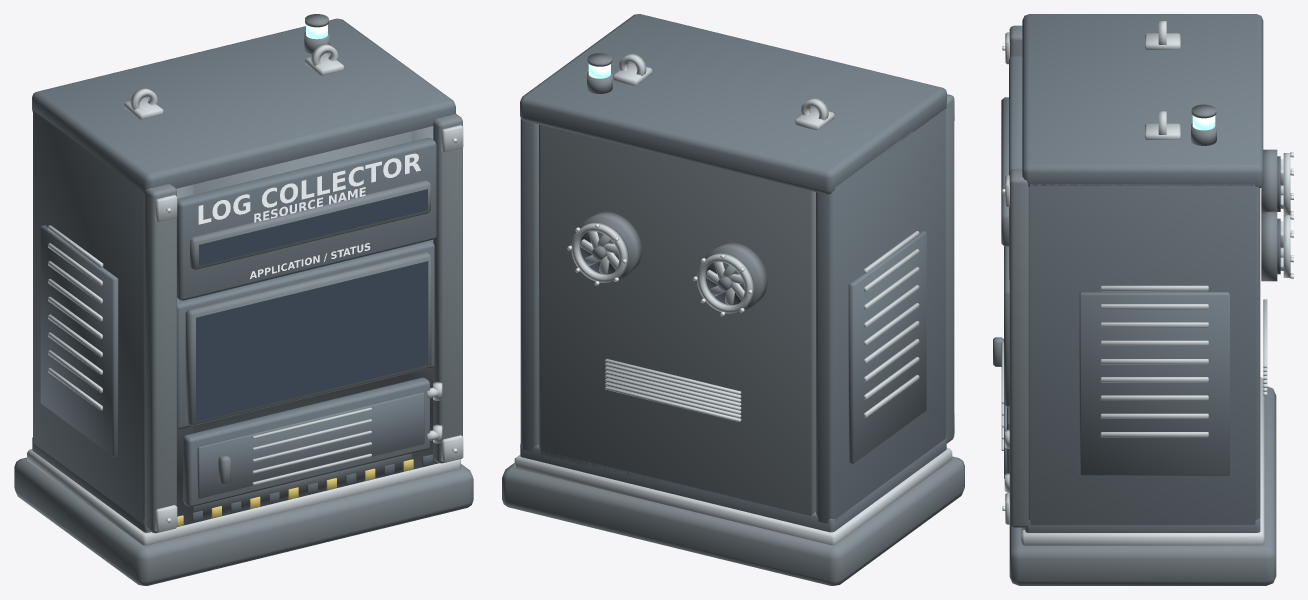
Rendered from log_collector_ultra.glb.
The picture shows the model from 3 angles, left to right: view 1: azimuth 30°, elevation 25°; view 2: azimuth 150°, elevation 25°; view 3: azimuth 270°, elevation 25°; orthographic projection. The views are drawn at different scales.
Visible parts, largest first — view 1: Roof_graphite, LiveViewSurface_glass, SideWall_graphite, Skid_frame, CornerPost_frame, FrontHeader_graphite, SideServicePanel_graphite, DoorMoving_Inset_graphite, DoorMoving_Panel_graphite, SkidDeck_steel, LiveViewSurfaceFrame_frame, ResourceNameSurface_glass (+15 smaller); view 2: BackWall_frame, Roof_graphite, SideWall_graphite, Skid_frame, SideServicePanel_graphite, SkidDeck_steel, KickPlate_graphite, RearFan_steel, RearVent_steel, SideLouver_steel, CornerPost_frame, RearFan_frame (+3 smaller); view 3: SideWall_graphite, Roof_graphite, SideServicePanel_graphite, Skid_frame, CornerPost_frame, SideLouver_steel, SkidDeck_steel, RearFan_frame, KickPlate_graphite, FrontHeader_graphite, RearFan_steel, ResourceNameSurfaceFrame_frame (+7 smaller).
Part boxes in pixels (x1,y1,x2,y2): Roof_graphite: (32, 18, 455, 194); LiveViewSurface_glass: (196, 261, 428, 421); SideWall_graphite: (33, 110, 144, 523); Skid_frame: (14, 457, 473, 585); CornerPost_frame: (144, 114, 462, 533); FrontHeader_graphite: (177, 137, 436, 300); SideServicePanel_graphite: (40, 225, 118, 456); DoorMoving_Inset_graphite: (197, 392, 424, 498); DoorMoving_Panel_graphite: (183, 377, 429, 506); SkidDeck_steel: (27, 449, 460, 545); LiveViewSurfaceFrame_frame: (185, 251, 431, 425); ResourceNameSurface_glass: (199, 189, 427, 265); BackWall_frame: (539, 124, 815, 518); Roof_graphite: (520, 14, 946, 194); SideWall_graphite: (520, 109, 945, 523); Skid_frame: (502, 456, 964, 585); SideServicePanel_graphite: (848, 230, 926, 463); SkidDeck_steel: (514, 447, 952, 545); KickPlate_graphite: (520, 437, 946, 532); RearFan_steel: (571, 222, 753, 313); RearVent_steel: (605, 359, 741, 422); SideLouver_steel: (863, 231, 919, 417); CornerPost_frame: (946, 94, 954, 443); RearFan_frame: (579, 211, 767, 311); SideWall_graphite: (1028, 184, 1260, 524); Roof_graphite: (1022, 14, 1263, 188); SideServicePanel_graphite: (1079, 292, 1229, 475); Skid_frame: (1009, 386, 1276, 585); CornerPost_frame: (1009, 25, 1028, 527); SideLouver_steel: (1100, 285, 1208, 437); SkidDeck_steel: (1021, 377, 1264, 545); RearFan_frame: (1261, 149, 1277, 281); KickPlate_graphite: (1025, 518, 1260, 532); FrontHeader_graphite: (1009, 56, 1022, 279); RearFan_steel: (1280, 153, 1290, 277); ResourceNameSurfaceFrame_frame: (1001, 97, 1008, 246).
Bounding box in the file's own units: 2 × 2.48 × 1.51.
